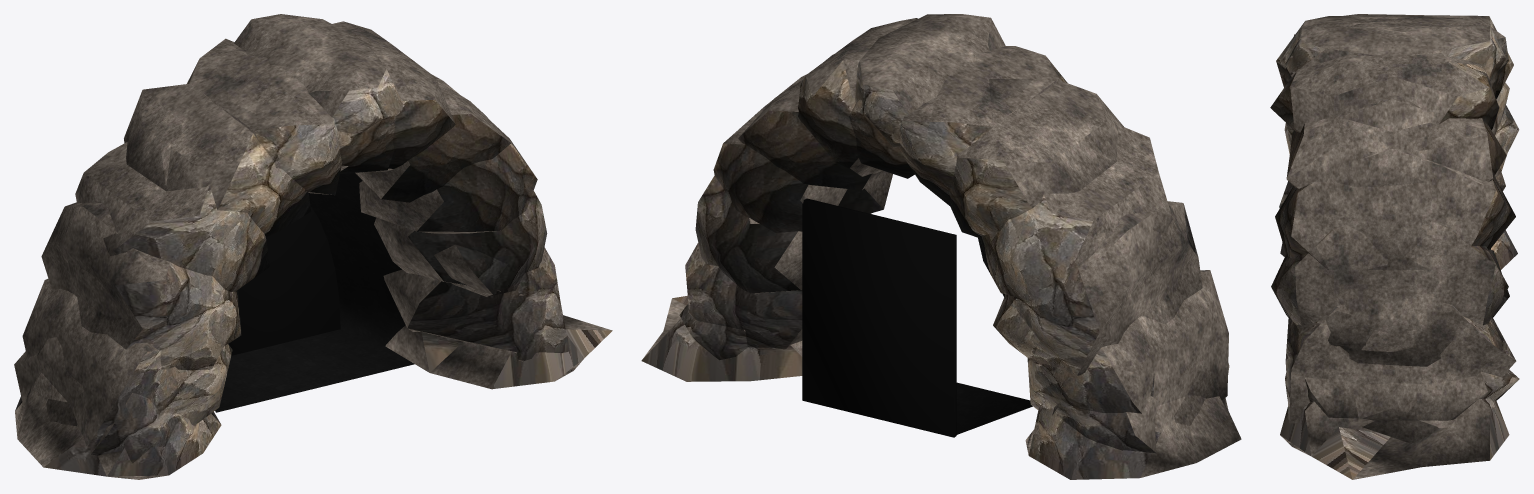
File: cave-mouth.glb
3 views of the same model, side by side, from view 1: azimuth 30°, elevation 25°; view 2: azimuth 150°, elevation 25°; view 3: azimuth 270°, elevation 25° (orthographic). The views are drawn at different scales.
Visible parts, largest first — view 1: cave-mouth; view 2: cave-mouth; view 3: cave-mouth.
Boxes of the visible parts, x1=… form: cave-mouth: x1=14, y1=14, x2=612, y2=479; cave-mouth: x1=641, y1=14, x2=1241, y2=479; cave-mouth: x1=1270, y1=14, x2=1519, y2=479.
Size of the model in its own units: 2.83 by 1.61 by 1.12.
4 materials, 3 textured.
